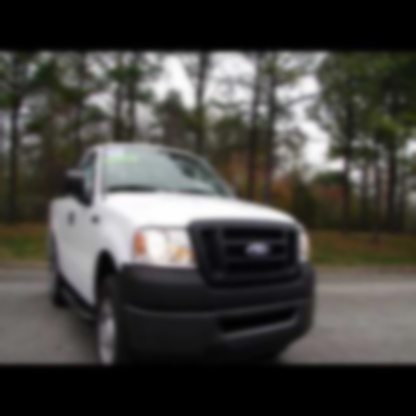Vehicle: (48, 147, 318, 365)
